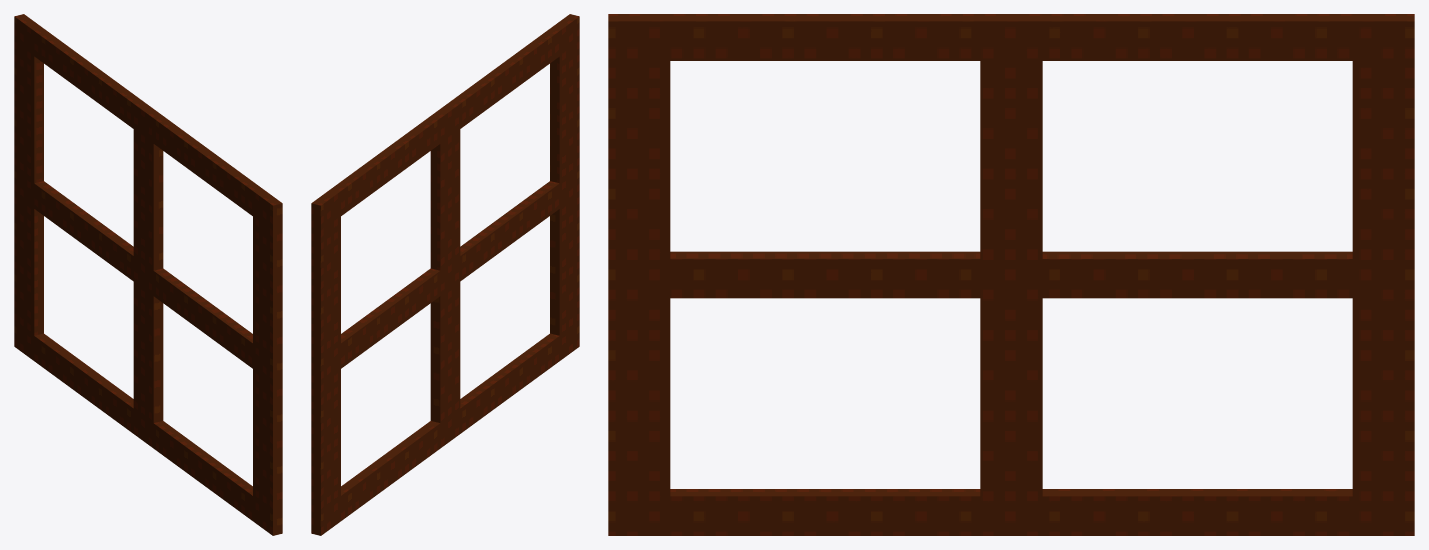
Rendered from Janela.glb.
The picture shows the model from 3 angles, left to right: view 1: azimuth 30°, elevation 25°; view 2: azimuth 150°, elevation 25°; view 3: azimuth 270°, elevation 25°; orthographic projection. The views are drawn at different scales.
Parts seen in each view (by area): view 1: Cube; view 2: Cube; view 3: Cube.
Boxes of the visible parts, bbox=[...] form: Cube: bbox=[14, 14, 282, 535]; Cube: bbox=[311, 14, 579, 535]; Cube: bbox=[608, 14, 1414, 535].
Size of the model in its own units: 0.1069 by 3.48 by 4.94.
Materials: 1 (1 with a texture image).
